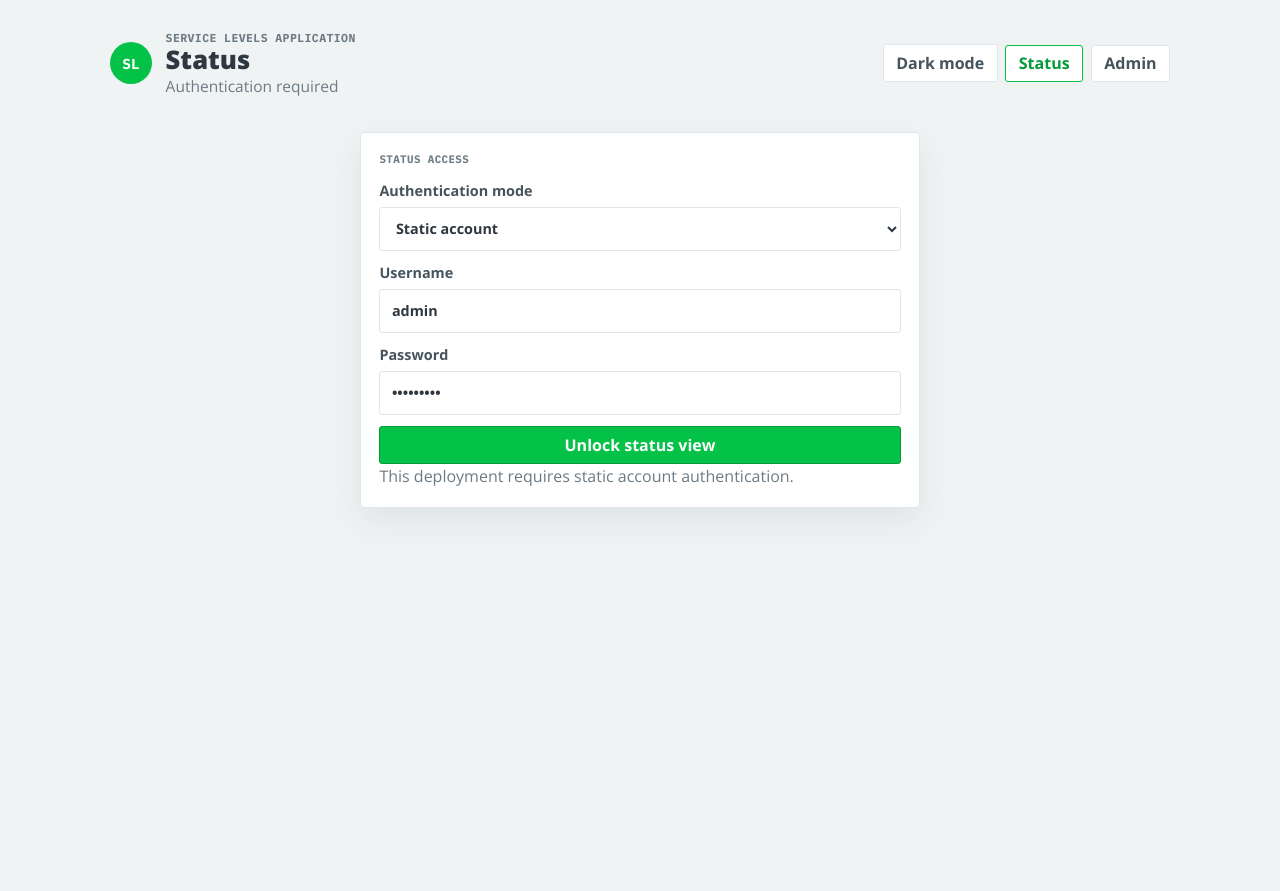
Scenario: status UI › supports local status-page authentication and then renders the snapshot
expect the text "Status access" is shown: met, box x1=379 y1=152 x2=469 y2=166
Replace the text in the field labelled "Username" with "viewer" at {"x": 640, "y": 311}, box x1=379 y1=289 x2=901 y2=333
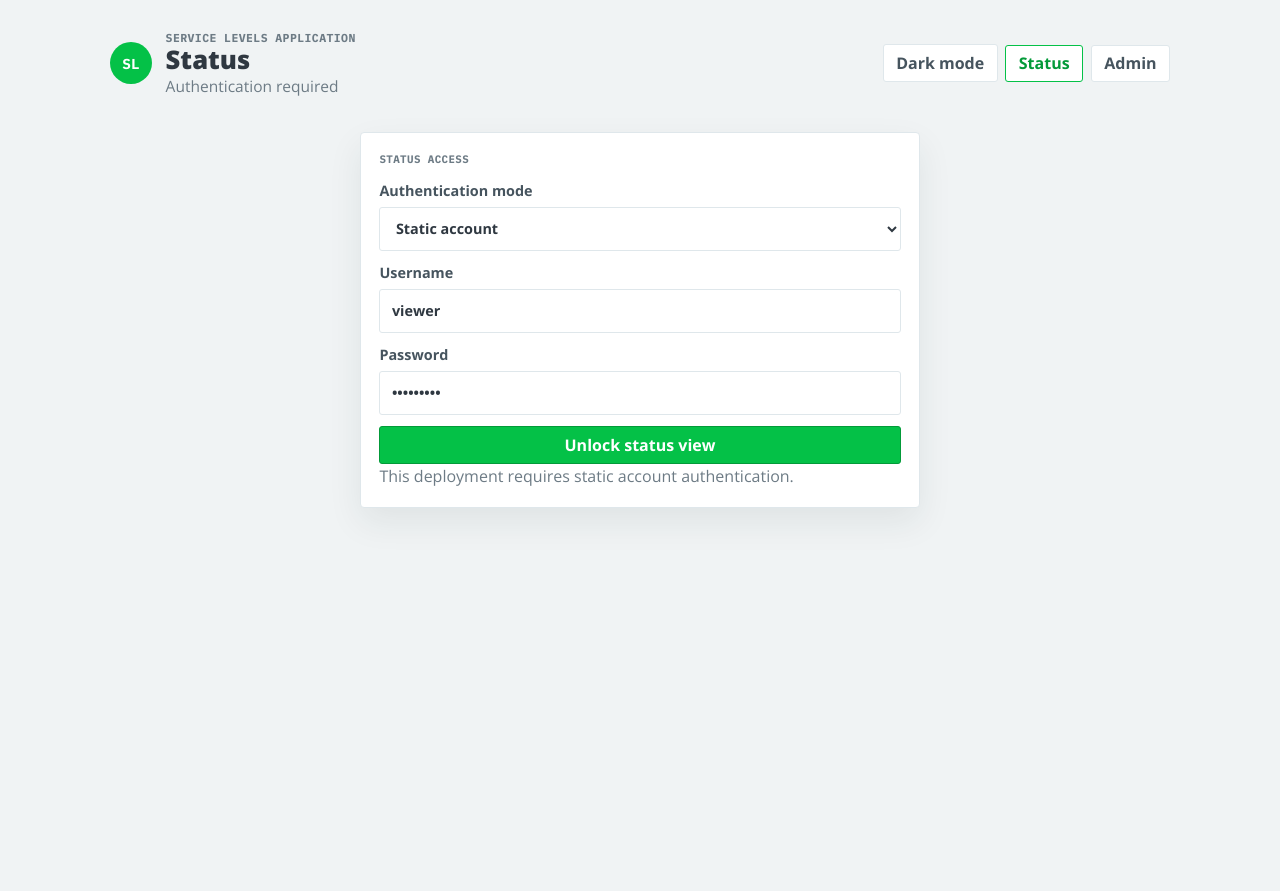
Type "secret" into the password field labelled "Password".
click(640, 393); type("secret")  # box x1=379 y1=371 x2=901 y2=415
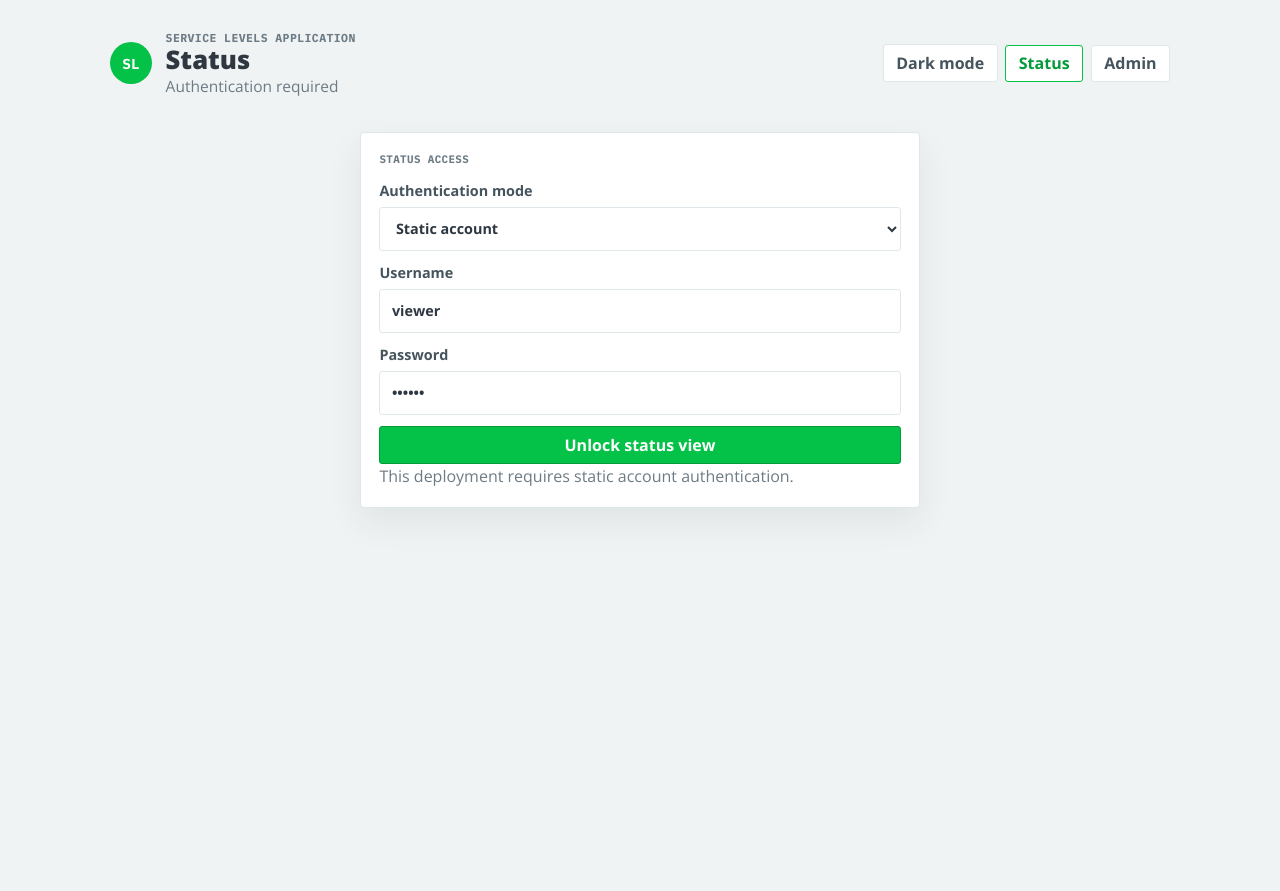
Click the button "Unlock status view".
click(640, 445)  # box x1=379 y1=426 x2=901 y2=464
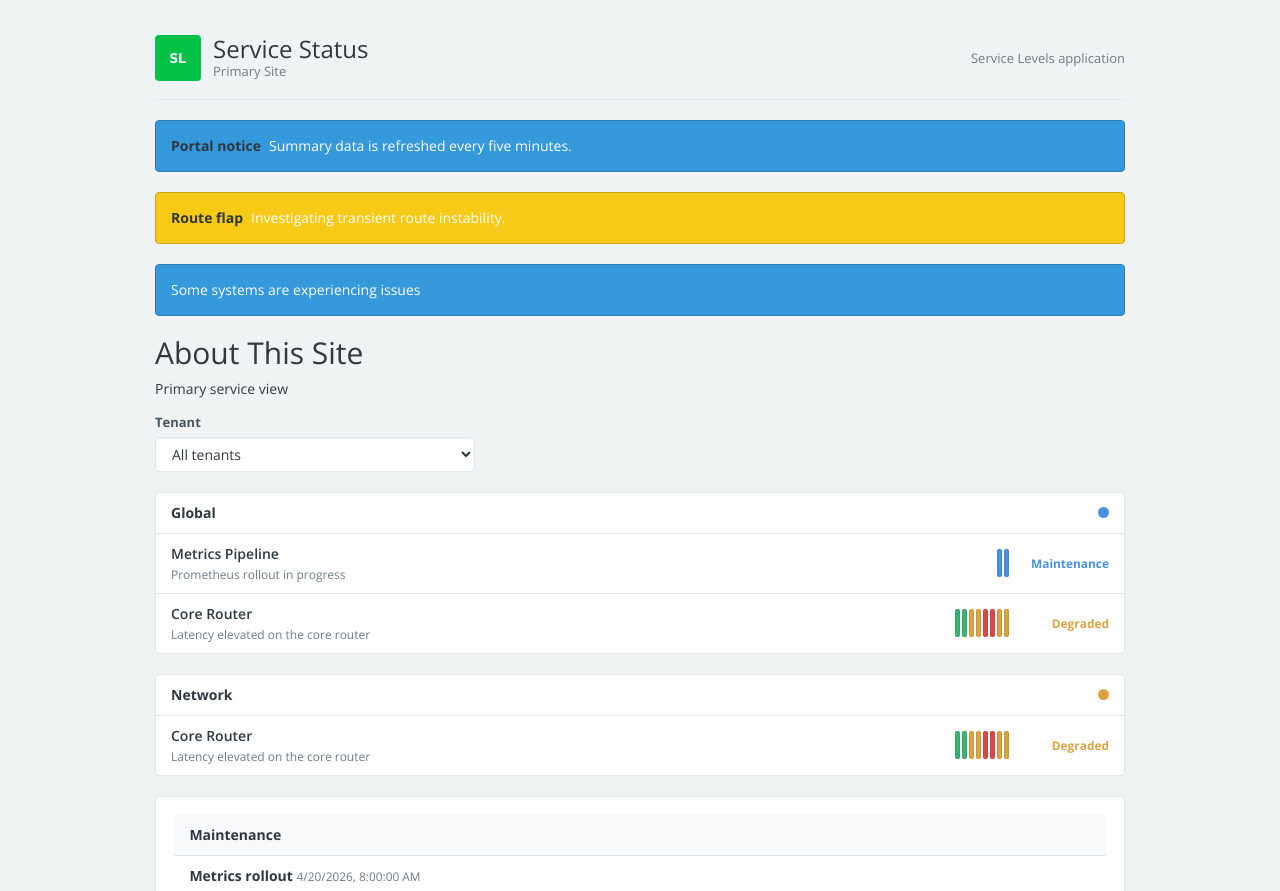
expect the text "Metrics Pipeline" is shown: met, box x1=171 y1=544 x2=279 y2=563
